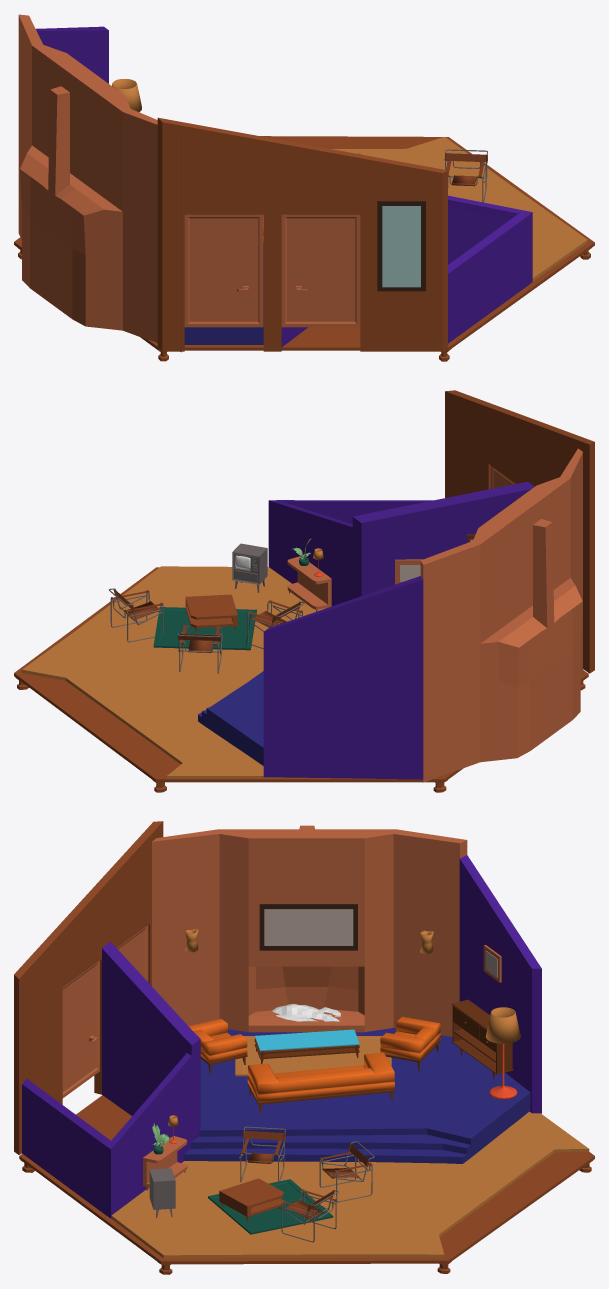
File: MDL_Whole_Living_01.fbx
3 views of the same model, one above another, from view 1: azimuth 30°, elevation 25°; view 2: azimuth 150°, elevation 25°; view 3: azimuth 270°, elevation 25° (orthographic).
Parts seen in each view (by area): view 1: MDL_Living_Fireplace_01, MDL_Living_Wall_01, MDL_Living_Wall_03, MDL_Living_Door_01, MDL_Living_Door_02, MDL_Living_Floor_02, MDL_Living_Floor_03, MDL_Living_Canvas_01, MDL_Living_Wall_02, MDL_Living_Floor_01, MDL_Living_Frame_01.001, MDL_Living_Chair_Leather_03 (+1 smaller); view 2: MDL_Living_Fireplace_01, MDL_Living_Wall_02, MDL_Living_Floor_02, MDL_Living_Wall_03, MDL_Living_Wall_01, MDL_Living_Floor_03, MDL_Living_Floor_01, MDL_Living_Carpet_01, MDL_Living_Table_02, MDL_Living_Shelf_02, MDL_Living_TV_Box, MDL_Living_Chair_Metal_03 (+2 smaller); view 3: MDL_Living_Fireplace_01, MDL_Living_Floor_02, MDL_Living_Floor_01, MDL_Living_Wall_03, MDL_Living_Wall_01, MDL_Living_Wall_02, MDL_Living_Floor_03, MDL_Living_Seat_Pillow_02, MDL_Living_Door_01, MDL_Living_Canvas_02, MDL_Living_Carpet_02, MDL_Living_Carpet_01 (+17 smaller).
Part boxes in pixels (x1=…): MDL_Living_Fireplace_01: x1=18, y1=14, x2=181, y2=352; MDL_Living_Wall_01: x1=157, y1=117, x2=447, y2=351; MDL_Living_Wall_03: x1=281, y1=195, x2=532, y2=346; MDL_Living_Door_01: x1=281, y1=214, x2=360, y2=327; MDL_Living_Door_02: x1=184, y1=214, x2=263, y2=327; MDL_Living_Floor_02: x1=331, y1=137, x2=587, y2=281; MDL_Living_Floor_03: x1=14, y1=136, x2=594, y2=350; MDL_Living_Canvas_01: x1=382, y1=206, x2=420, y2=287; MDL_Living_Wall_02: x1=36, y1=26, x2=108, y2=83; MDL_Living_Floor_01: x1=184, y1=247, x2=263, y2=344; MDL_Living_Frame_01.001: x1=377, y1=201, x2=425, y2=291; MDL_Living_Chair_Leather_03: x1=444, y1=153, x2=487, y2=186; MDL_Living_Fireplace_01: x1=420, y1=448, x2=582, y2=782; MDL_Living_Wall_02: x1=263, y1=576, x2=423, y2=779; MDL_Living_Floor_02: x1=22, y1=566, x2=325, y2=779; MDL_Living_Wall_03: x1=268, y1=481, x2=534, y2=606; MDL_Living_Wall_01: x1=445, y1=390, x2=594, y2=673; MDL_Living_Floor_03: x1=14, y1=567, x2=588, y2=782; MDL_Living_Floor_01: x1=198, y1=671, x2=263, y2=765; MDL_Living_Carpet_01: x1=153, y1=607, x2=256, y2=650; MDL_Living_Table_02: x1=185, y1=594, x2=237, y2=631; MDL_Living_Shelf_02: x1=287, y1=556, x2=331, y2=611; MDL_Living_TV_Box: x1=232, y1=543, x2=267, y2=592; MDL_Living_Chair_Metal_03: x1=109, y1=588, x2=163, y2=642; MDL_Living_Fireplace_01: x1=152, y1=825, x2=467, y2=1036; MDL_Living_Floor_02: x1=111, y1=1111, x2=589, y2=1258; MDL_Living_Floor_01: x1=183, y1=1028, x2=530, y2=1163; MDL_Living_Wall_03: x1=22, y1=941, x2=200, y2=1218; MDL_Living_Wall_01: x1=14, y1=821, x2=163, y2=1154; MDL_Living_Wall_02: x1=459, y1=855, x2=541, y2=1113; MDL_Living_Floor_03: x1=19, y1=1095, x2=594, y2=1264; MDL_Living_Seat_Pillow_02: x1=247, y1=1052, x2=394, y2=1101; MDL_Living_Door_01: x1=62, y1=960, x2=99, y2=1098; MDL_Living_Canvas_02: x1=264, y1=909, x2=353, y2=945; MDL_Living_Carpet_02: x1=235, y1=1036, x2=391, y2=1076; MDL_Living_Carpet_01: x1=208, y1=1179, x2=333, y2=1234.
Size of the model in its own units: 1072 by 534 by 1155.
